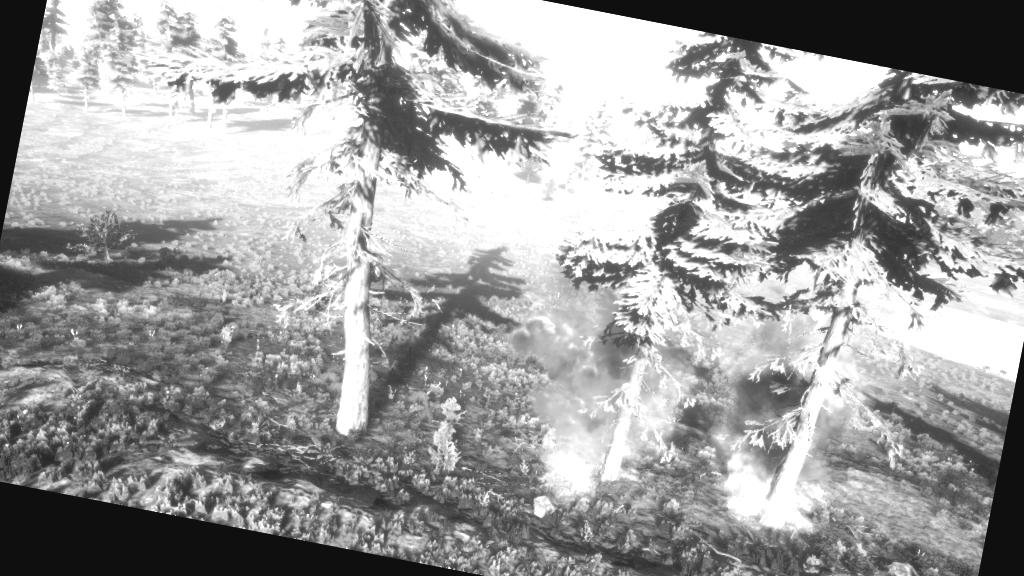Fire: (785, 456, 837, 542), (532, 444, 602, 504), (727, 488, 770, 526)
smoke: (510, 304, 638, 454), (718, 394, 791, 496), (724, 300, 814, 378), (812, 350, 856, 448), (628, 360, 672, 458)
